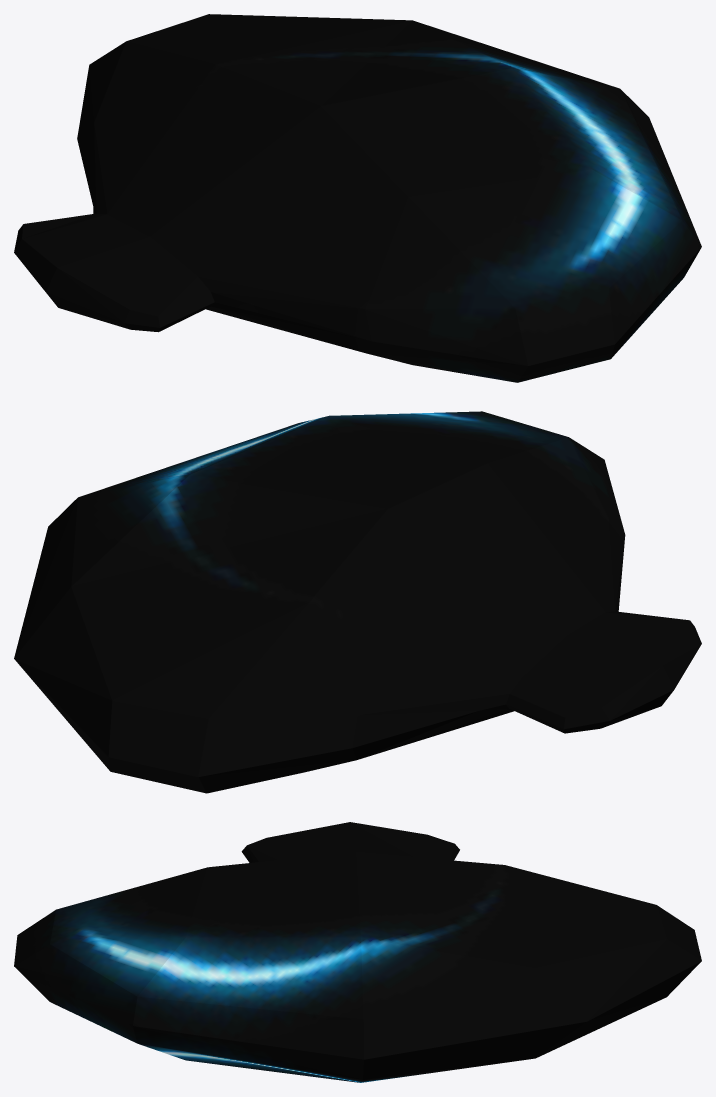
Rendered from 0224_beike.glb.
3 views of the same model, one above another, from view 1: azimuth 30°, elevation 25°; view 2: azimuth 150°, elevation 25°; view 3: azimuth 270°, elevation 25° (orthographic). The views are drawn at different scales.
Bounding box in the file's own units: 1.82 × 0.6042 × 2.2.
Materials: 1 (1 with a texture image).
